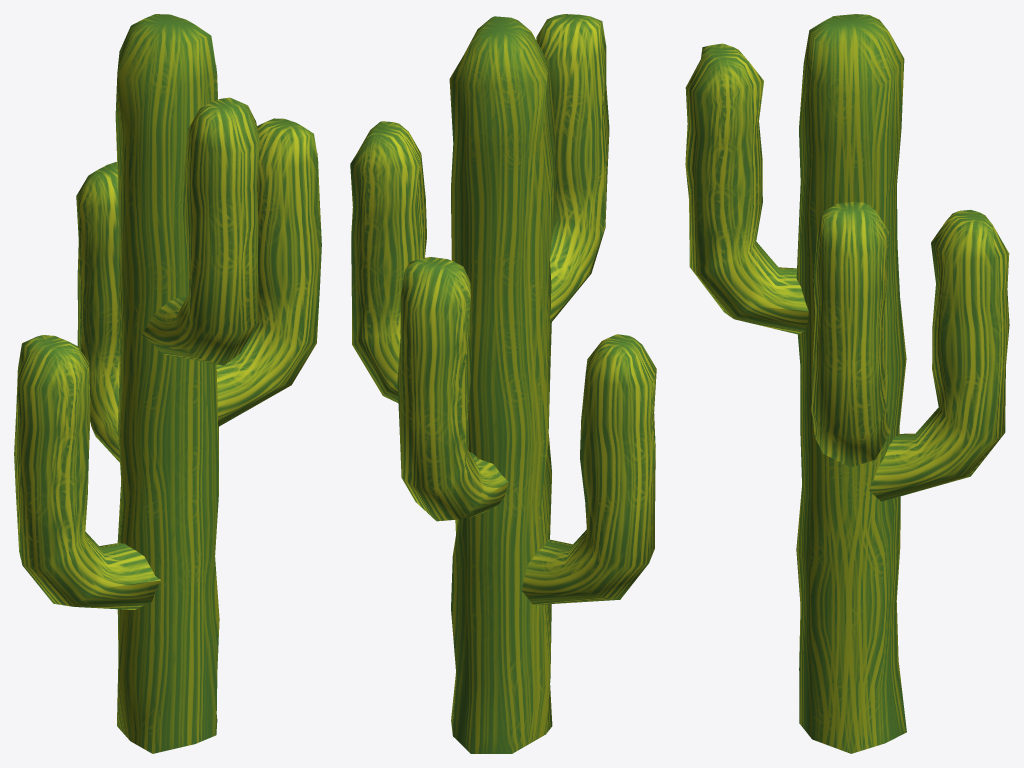
File: cactus1.fbx
3 renders of one model, left to right at view 1: azimuth 30°, elevation 25°; view 2: azimuth 150°, elevation 25°; view 3: azimuth 270°, elevation 25°, orthographic.
Visible parts, largest first — view 1: polymsh; view 2: polymsh; view 3: polymsh.
Boxes of the visible parts, left/top/right/bottom form: polymsh: left=14, top=14, right=321, bottom=753; polymsh: left=350, top=14, right=656, bottom=753; polymsh: left=685, top=14, right=1009, bottom=753.
Size of the model in its own units: 42.34 by 96.53 by 39.73.
